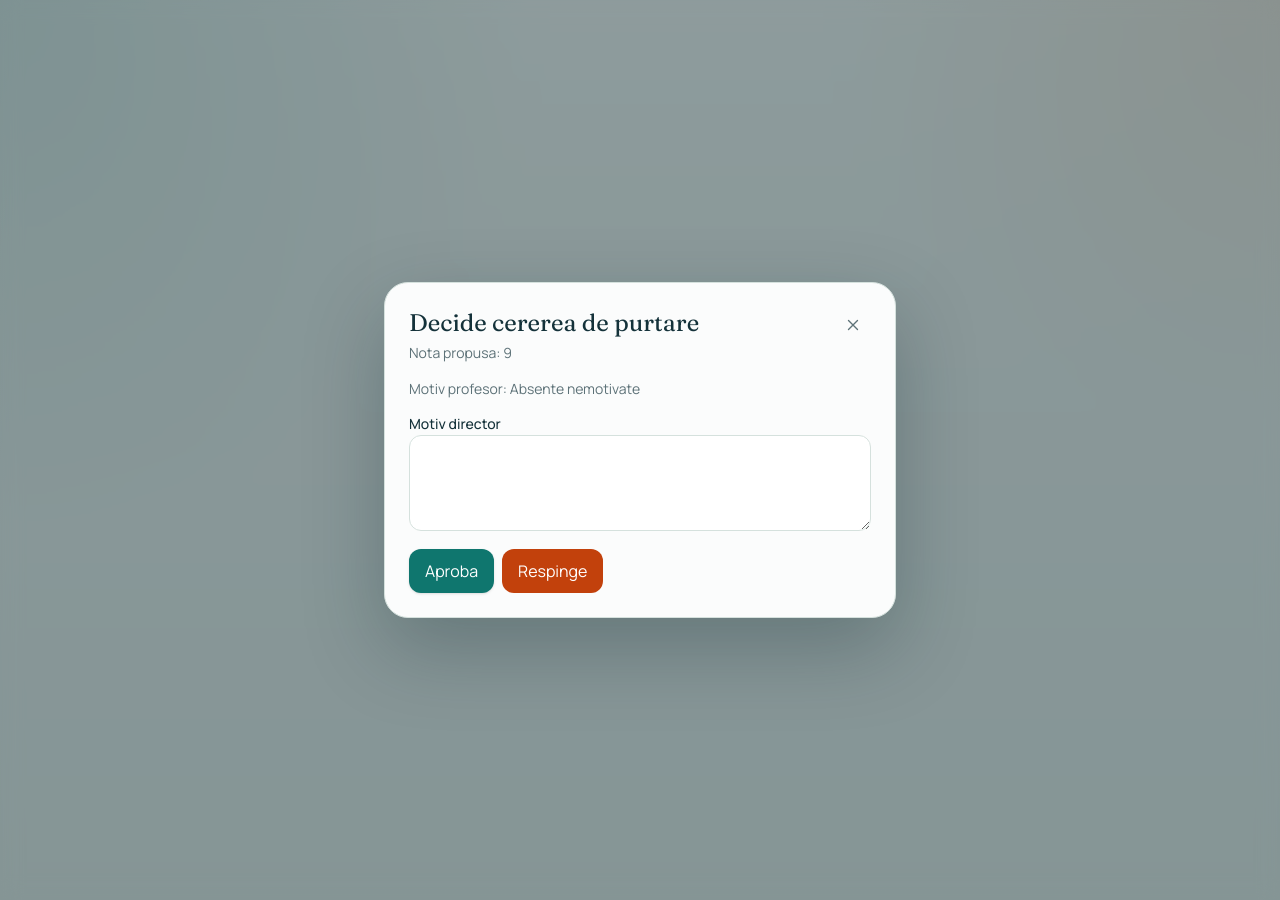
Scenario: DecisionModal › asks for a reason of at least 5 characters
The image size is (1280, 900).
Type "ok" into the text box labelled "Motiv director" at (640, 483), box [409, 435, 871, 531]
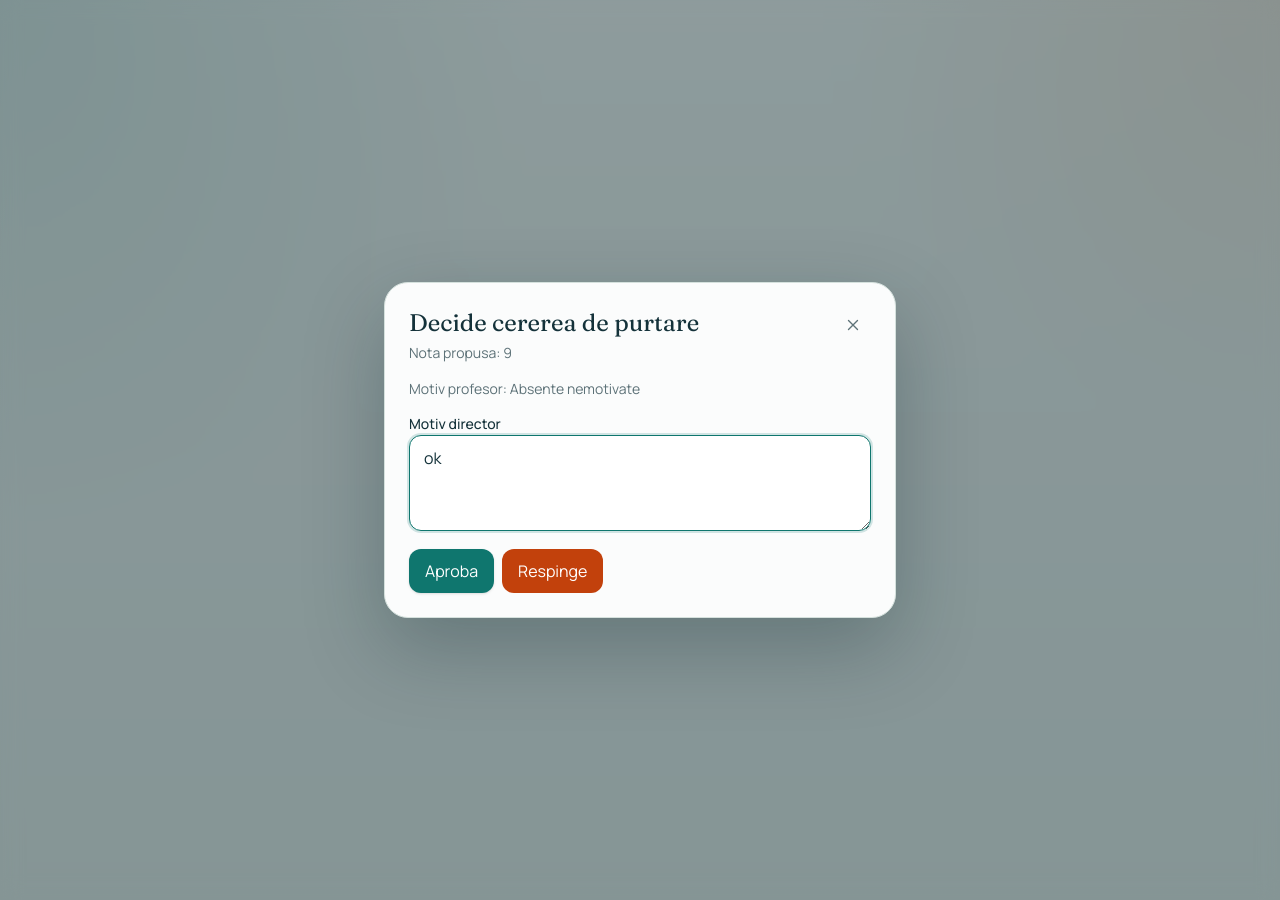
Click the button "Aproba" at (452, 571), box [409, 549, 494, 593]
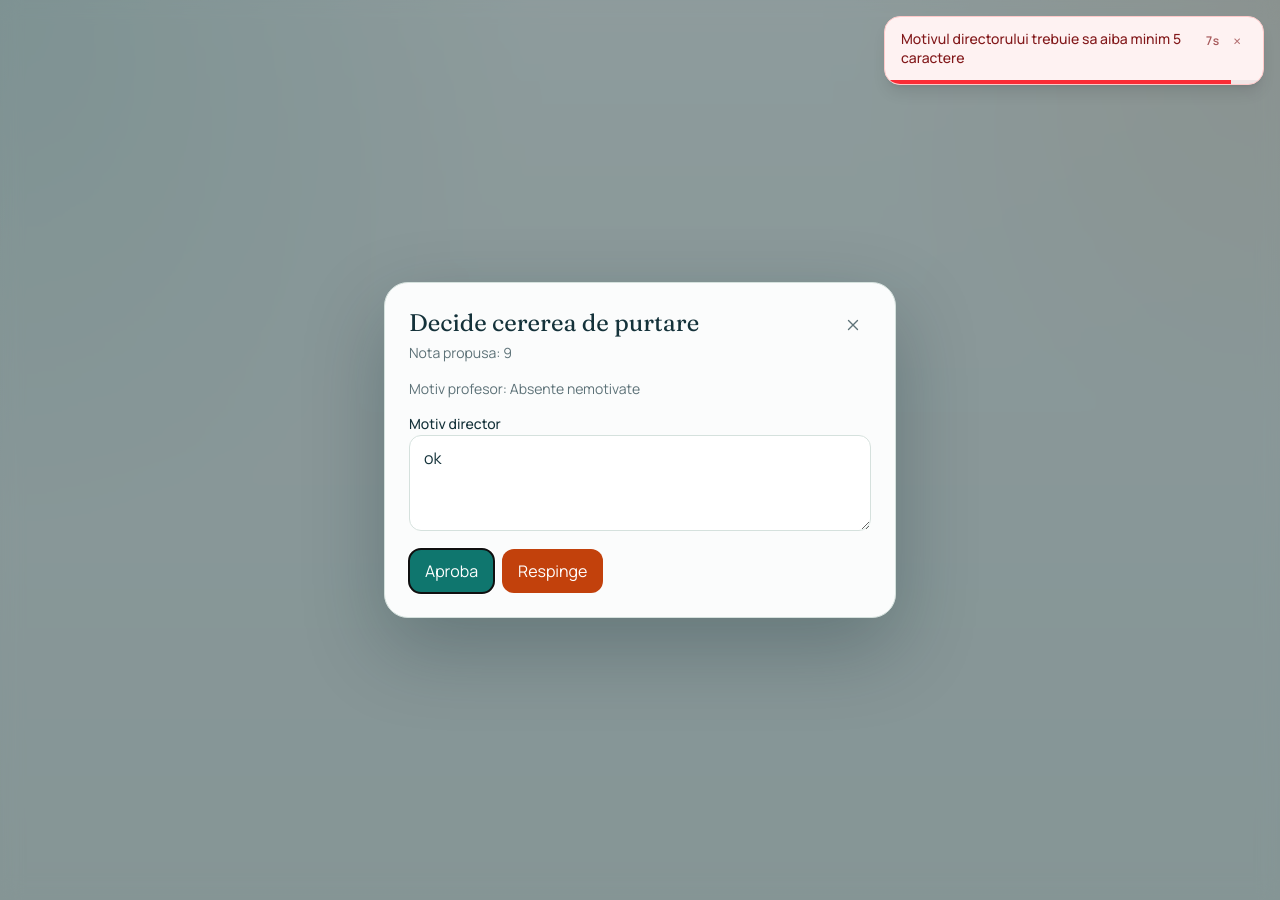
Now the text "Motivul directorului trebuie sa aiba minim 5 caractere" is shown, box [901, 29, 1193, 68]
